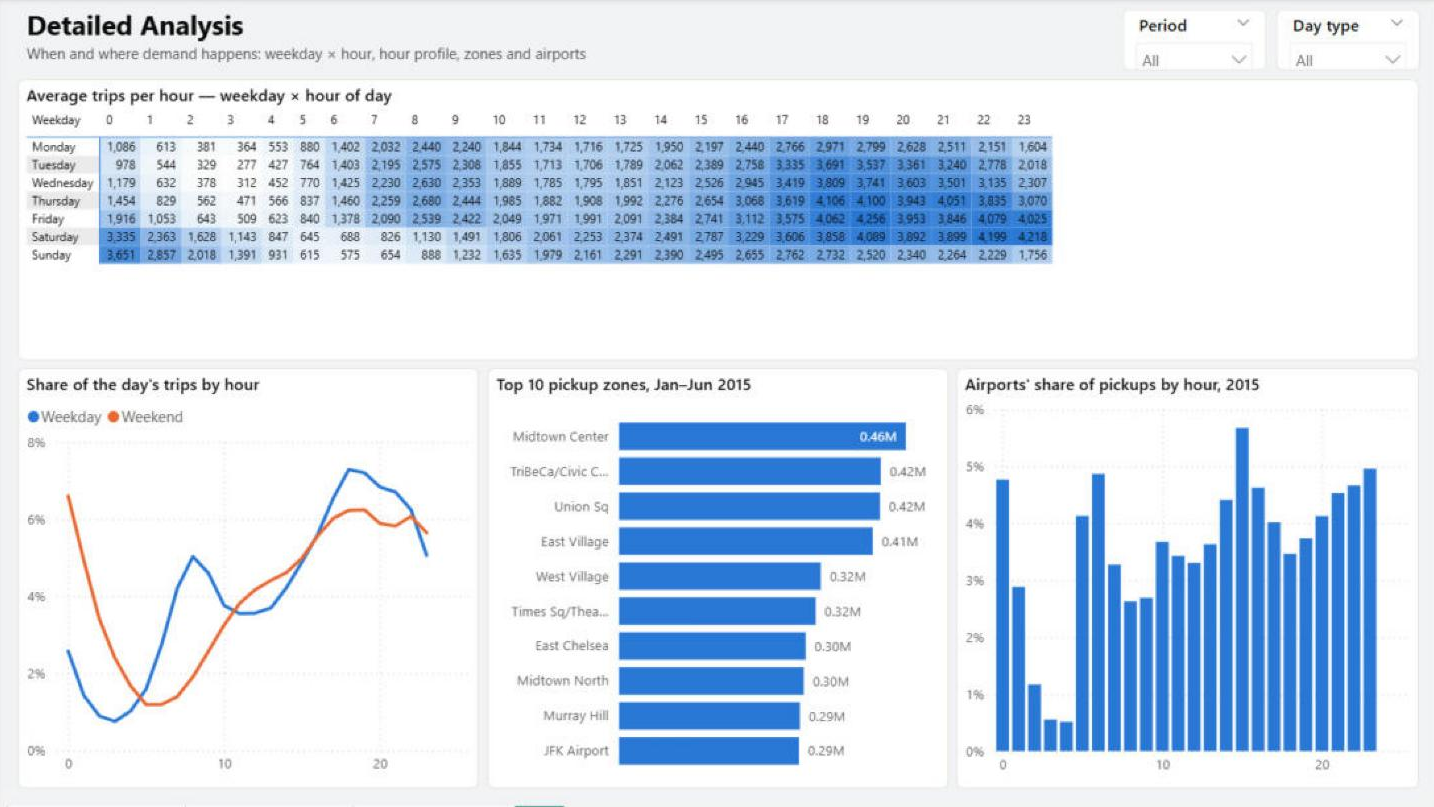

This screenshot's page, from the dashboard's own definition file:
{"tool":"powerbi","page":{"name":"Detailed Analysis","canvas":[1280,720],"ordinal":1},"visuals":[{"type":"textbox","box":[16,8,976,56],"z":1000},{"type":"slicer","fields":{"Values":["Date.Period"]},"box":[1000,10,128,54],"z":2000},{"type":"slicer","fields":{"Values":["Date.Day Type"]},"box":[1136,10,128,54],"z":3000},{"type":"pivotTable","title":"Average trips per hour — weekday × hour of day","fields":{"Rows":["fact_hourly.weekday"],"Columns":["fact_hourly.hour"],"Values":["_Measures.Avg Trips per Hour"]},"box":[16,72,1248,250],"z":4000},{"type":"lineChart","title":"Share of the day''s trips by hour","fields":{"Category":["fact_hourly.hour"],"Series":["fact_hourly.day_type"],"Y":["_Measures.Share of Day's Trips %"]},"box":[16,330,410,374],"z":5000},{"type":"clusteredBarChart","title":"Top 10 pickup zones, Jan–Jun 2015","fields":{"Category":["dim_zone.zone"],"Y":["_Measures.Zone Trips (Top 10)"]},"box":[434,330,410,374],"z":6000},{"type":"clusteredColumnChart","title":"Airports'' share of pickups by hour, 2015","fields":{"Category":["fact_area_hourly.hour"],"Y":["_Measures.Airport Share by Hour %"]},"box":[852,330,412,374],"z":7000}]}

Visuals, with their boxes in screenshot pixels (x1, y1, x2, y2), scaled from the page's 1280x720 canvas onto the 1434x807 screenshot:
textbox: [x1=18, y1=9, x2=1111, y2=72]
slicer - Date.Period: [x1=1120, y1=11, x2=1264, y2=72]
slicer - Date.Day Type: [x1=1273, y1=11, x2=1416, y2=72]
"Average trips per hour — weekday × hour of day" pivotTable: [x1=18, y1=81, x2=1416, y2=361]
"Share of the day''s trips by hour" lineChart: [x1=18, y1=370, x2=477, y2=789]
"Top 10 pickup zones, Jan–Jun 2015" clusteredBarChart: [x1=486, y1=370, x2=946, y2=789]
"Airports'' share of pickups by hour, 2015" clusteredColumnChart: [x1=955, y1=370, x2=1416, y2=789]
